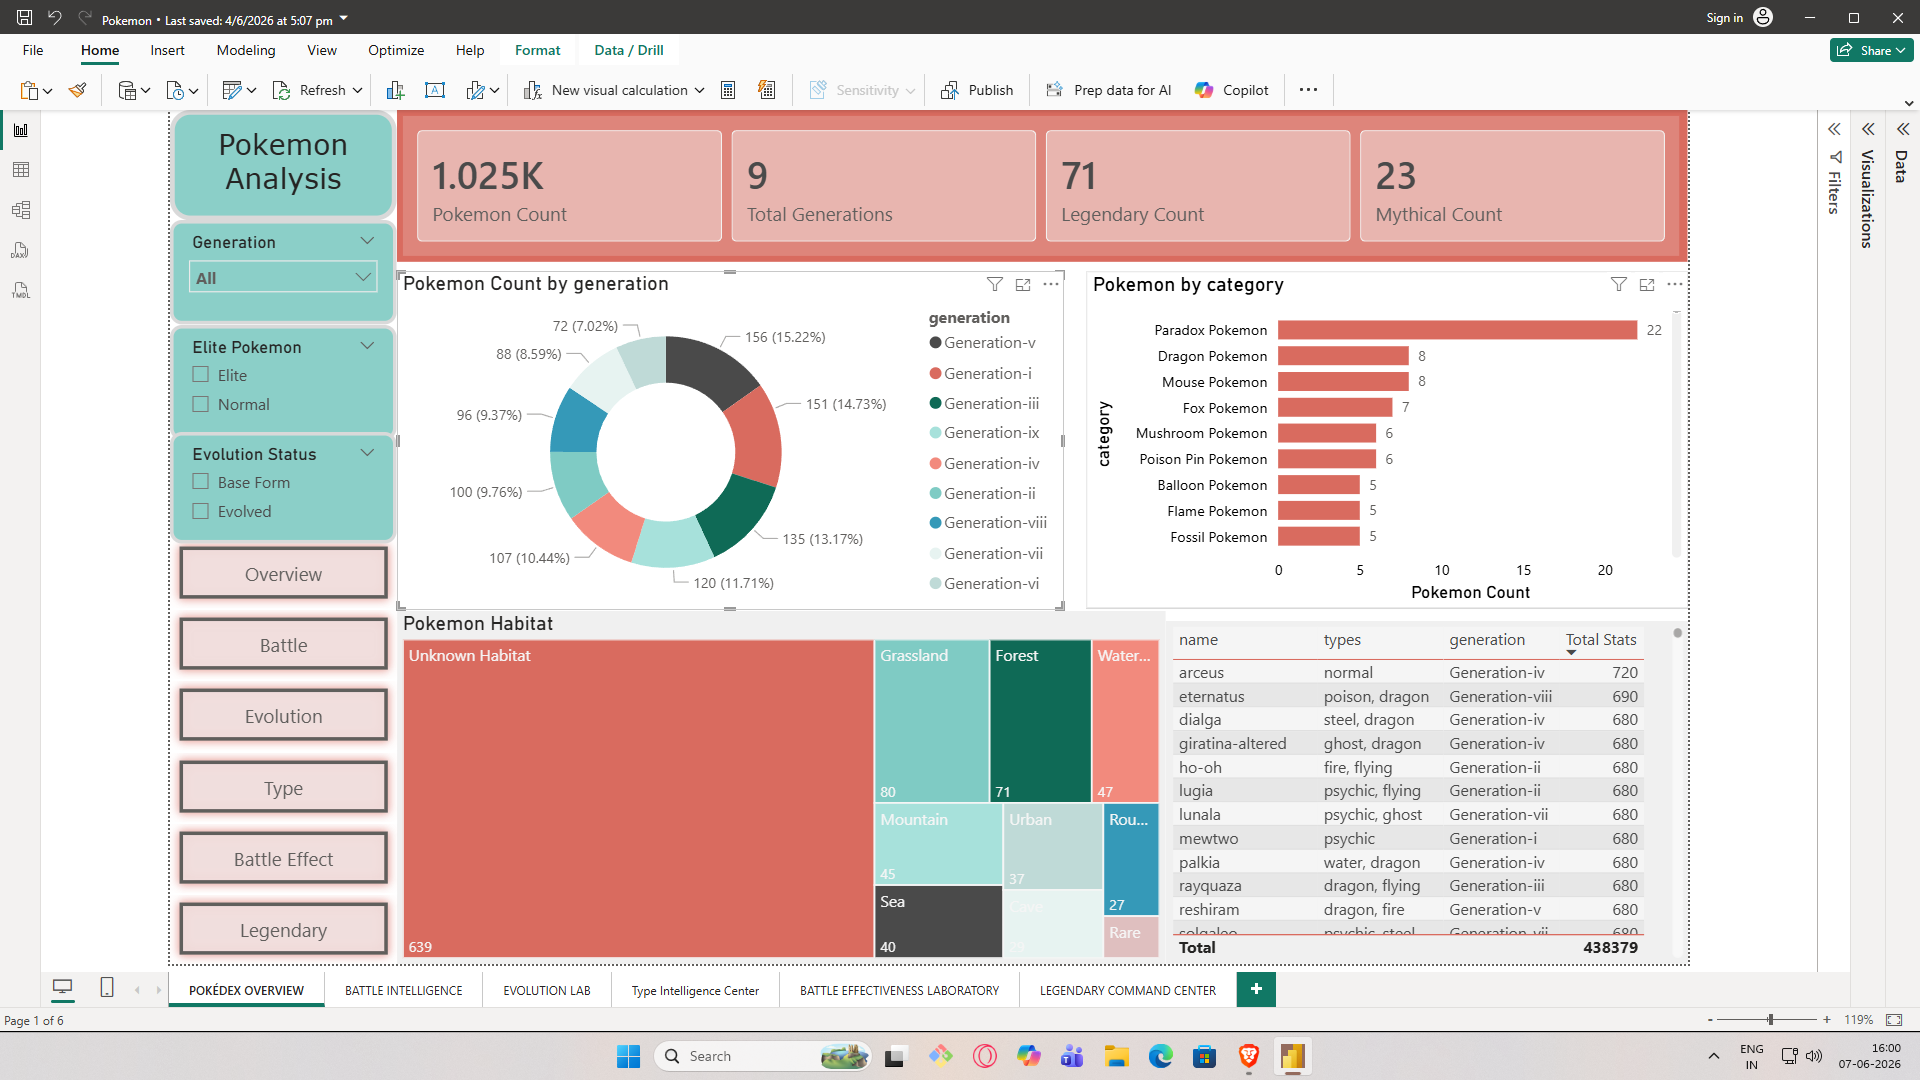

This screenshot's page, from the dashboard's own definition file:
{"tool":"powerbi","page":{"name":"POKÉDEX OVERVIEW","canvas":[1280,720],"ordinal":0},"visuals":[{"type":"cardVisual","fields":{"Data":["Pokemon.Pokemon Count","Pokemon.Total Generations","Pokemon.Legendary Count","Pokemon.Mythical Count"]},"box":[191.6,0,1088.4,128.4],"z":0},{"type":"donutChart","fields":{"Y":["Pokemon.Pokemon Count"],"Category":["Pokemon.generation"]},"box":[191.5,135.4,562.4,286.4],"z":1000},{"type":"treemap","title":"Pokemon Habitat","fields":{"Group":["Pokemon.habitat"],"Values":["Pokemon.Pokemon Count"]},"box":[191.6,422.1,647.8,297.6],"z":2000},{"type":"clusteredBarChart","title":"Pokemon by category","fields":{"Y":["Pokemon.Pokemon Count"],"Category":["Pokemon.category"]},"box":[772,135.4,508,284.6],"z":3000},{"type":"tableEx","fields":{"Values":["Pokemon.name","Pokemon.types","Pokemon.generation","Sum(Pokemon.Total Stats)"]},"box":[839.4,430.9,440.6,288.9],"z":4000},{"type":"textbox","box":[0,0,191.4,92.7],"z":5000},{"type":"actionButton","box":[0,360,191.6,60],"z":6000},{"type":"actionButton","box":[0,600,191.6,60],"z":7000},{"type":"actionButton","box":[0,540,191.6,60],"z":8000},{"type":"actionButton","box":[0,480,191.6,60],"z":9000},{"type":"actionButton","box":[0,420,191.6,60],"z":10000},{"type":"actionButton","box":[0,660,191.6,60],"z":11000},{"type":"slicer","fields":{"Values":["Pokemon.generation"]},"box":[0,93.2,191.5,88],"z":12000},{"type":"slicer","fields":{"Values":["Pokemon.Elite Pokemon"]},"box":[0,181.1,191.5,96.6],"z":12001},{"type":"slicer","fields":{"Values":["Pokemon.Evolution Status"]},"box":[0,271.7,191.5,94],"z":12002}]}

Visuals, with their boxes on the page's 1280x720 design canvas (x1, y1, x2, y2). These are canvas units, not pixel positions in the 1920x1080 screenshot, which may show the page scaled, cropped or inside an application window:
cardVisual - Pokemon.Pokemon Count x Pokemon.Total Generations: [192,0,1280,128]
donutChart - Pokemon.Pokemon Count x Pokemon.generation: [192,135,754,422]
"Pokemon Habitat" treemap: [192,422,839,720]
"Pokemon by category" clusteredBarChart: [772,135,1280,420]
tableEx - Pokemon.name x Pokemon.types: [839,431,1280,720]
textbox: [0,0,191,93]
actionButton: [0,360,192,420]
actionButton: [0,600,192,660]
actionButton: [0,540,192,600]
actionButton: [0,480,192,540]
actionButton: [0,420,192,480]
actionButton: [0,660,192,720]
slicer - Pokemon.generation: [0,93,192,181]
slicer - Pokemon.Elite Pokemon: [0,181,192,278]
slicer - Pokemon.Evolution Status: [0,272,192,366]
